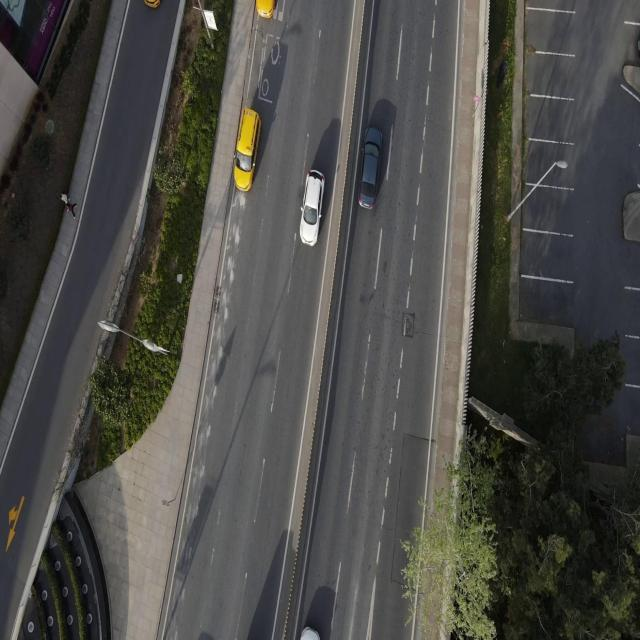p3rson: (66, 201, 77, 221), (59, 192, 70, 212)
